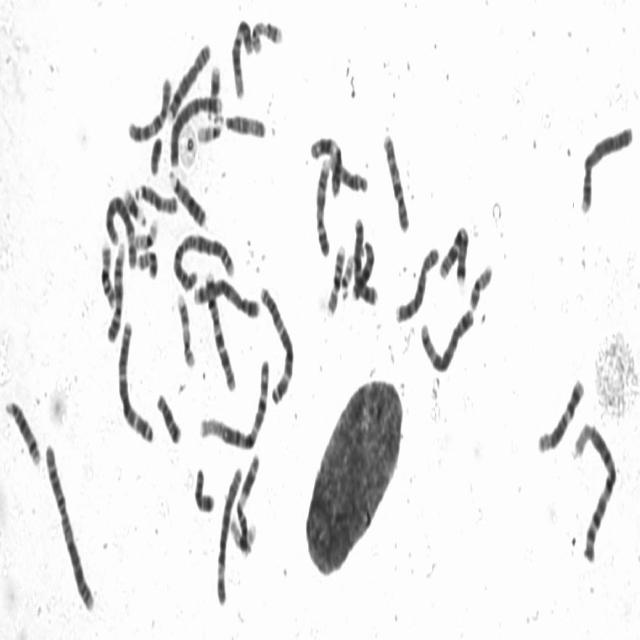A1: (196, 353, 271, 452), (572, 416, 618, 563)
A2: (43, 438, 96, 614), (169, 227, 236, 293)
A3: (115, 316, 155, 444), (257, 280, 296, 406)
B4: (578, 119, 635, 216), (167, 90, 224, 168)
B5: (419, 306, 474, 374), (192, 275, 260, 320)
C10: (125, 70, 173, 144), (380, 128, 410, 235)
C11: (235, 448, 260, 546), (308, 130, 344, 198)
C12: (535, 373, 586, 456), (230, 12, 253, 100)
C6: (214, 463, 243, 608), (103, 190, 137, 274)
C7: (202, 268, 238, 393), (437, 220, 469, 286)
C8: (392, 240, 440, 325), (167, 38, 212, 121)
C9: (105, 239, 126, 345), (313, 154, 332, 258)
D13: (166, 166, 208, 230), (350, 235, 375, 304)
D14: (3, 395, 42, 466), (328, 150, 368, 195)
D15: (132, 179, 178, 216), (222, 109, 266, 143)
E16: (324, 238, 346, 318), (98, 237, 116, 311)
E17: (174, 288, 197, 370), (250, 16, 283, 54)
E18: (155, 388, 182, 446), (192, 464, 215, 515)
F19: (226, 512, 257, 555), (133, 217, 159, 252)
F20: (467, 260, 494, 312), (135, 246, 158, 280)
G21: (121, 183, 147, 227), (207, 58, 223, 121)
G22: (194, 114, 225, 144), (340, 250, 355, 302)
X: (352, 212, 379, 307)
Y: (148, 131, 164, 178)
